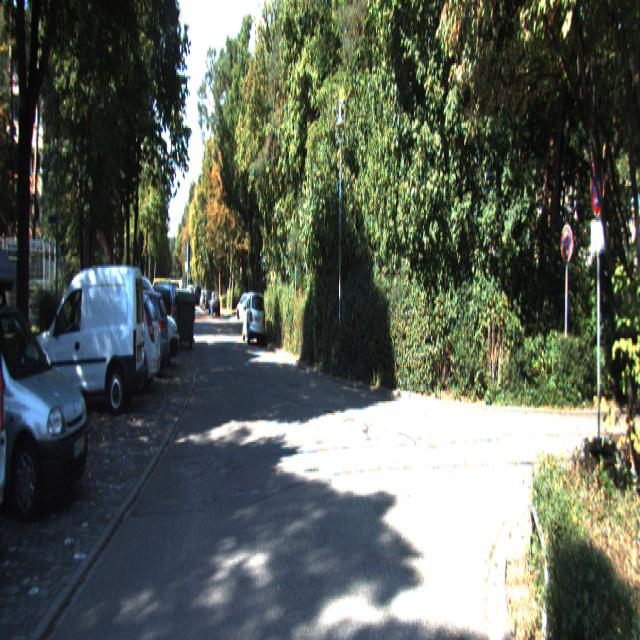Car: (0, 235, 96, 528), (28, 265, 146, 423), (66, 297, 162, 410), (94, 295, 172, 389), (242, 292, 266, 348)
